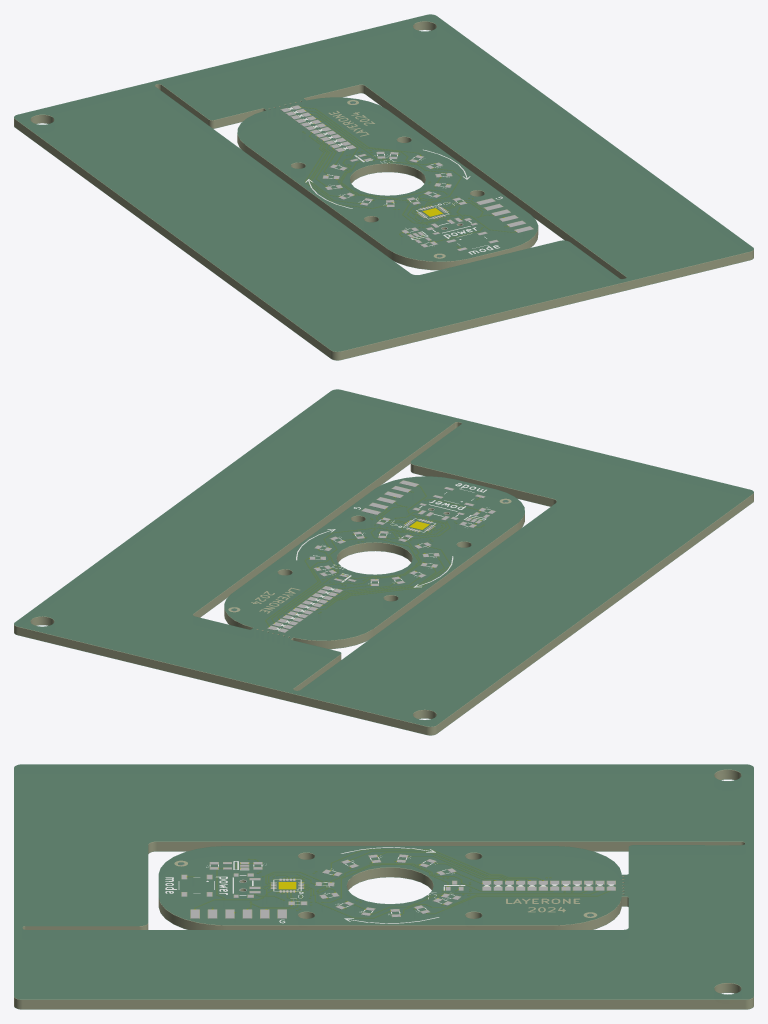
The model's file is layerone-2024-pov-spinner-badge.glb.
The picture shows the model from 3 angles, top to bottom: view 1: azimuth 30°, elevation 25°; view 2: azimuth 150°, elevation 25°; view 3: azimuth 270°, elevation 25°; orthographic projection. The views are drawn at different scales.
Visible parts, largest first — view 1: =>[0:1:1:9], =>[0:1:1:7], =>[0:1:1:2], =>[0:1:1:5]; view 2: =>[0:1:1:9], =>[0:1:1:7], =>[0:1:1:2], =>[0:1:1:5]; view 3: =>[0:1:1:9], =>[0:1:1:7], =>[0:1:1:2], =>[0:1:1:5].
Boxes of the visible parts, bbox=[...] form: =>[0:1:1:9]: bbox=[14, 15, 753, 360]; =>[0:1:1:7]: bbox=[14, 14, 753, 360]; =>[0:1:1:2]: bbox=[281, 102, 533, 257]; =>[0:1:1:5]: bbox=[288, 107, 502, 254]; =>[0:1:1:9]: bbox=[14, 390, 753, 735]; =>[0:1:1:7]: bbox=[14, 389, 753, 735]; =>[0:1:1:2]: bbox=[231, 480, 508, 632]; =>[0:1:1:5]: bbox=[275, 483, 490, 630]; =>[0:1:1:9]: bbox=[14, 765, 753, 1009]; =>[0:1:1:7]: bbox=[14, 764, 753, 1009]; =>[0:1:1:2]: bbox=[178, 850, 615, 918]; =>[0:1:1:5]: bbox=[165, 847, 614, 923].
Size of the model in its own units: 0.0813 by 0.00166 by 0.108.
Materials: 4 (4 with a texture image).
